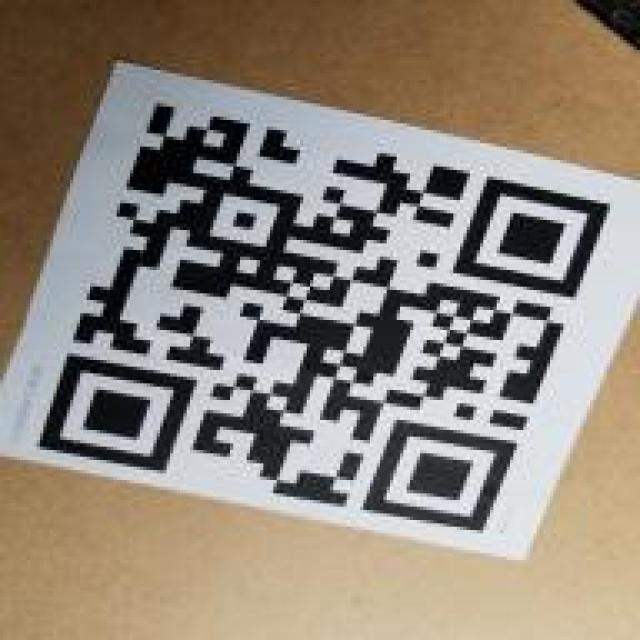qr_code: (36, 102, 611, 532)
